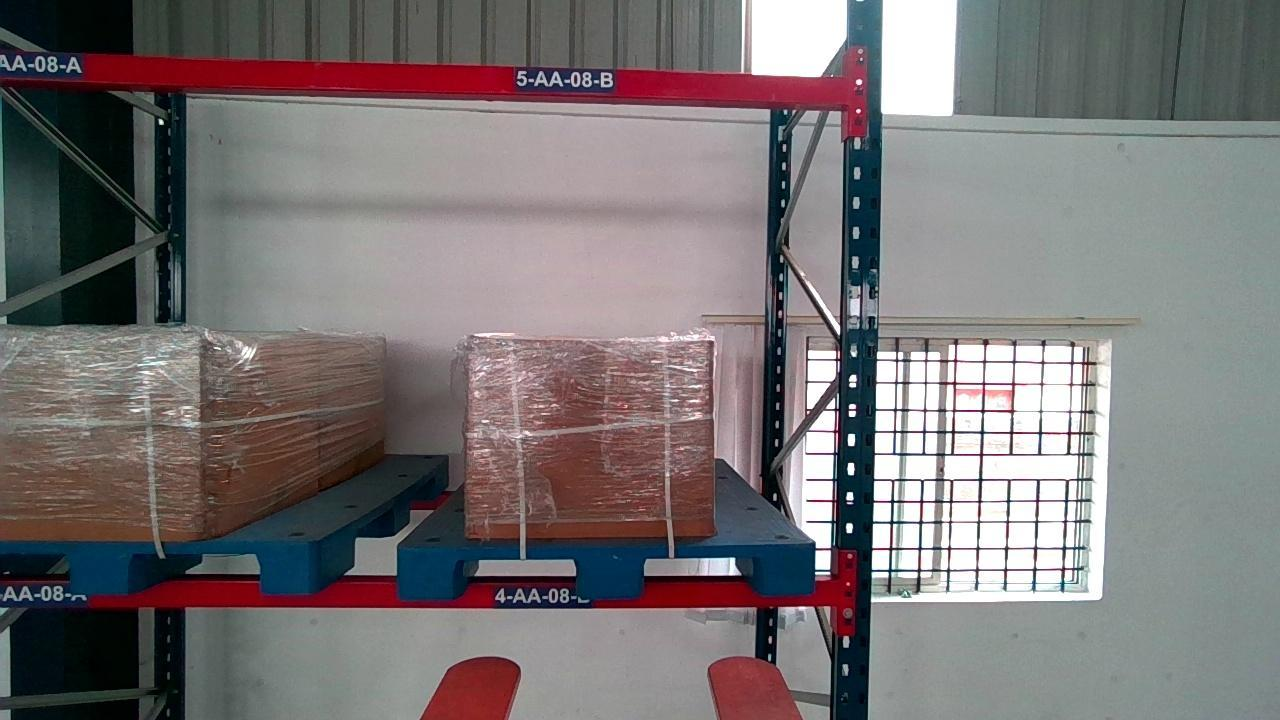h_rack: (0, 54, 847, 108), (0, 576, 848, 606)
small_pallet: (398, 543, 815, 601)
